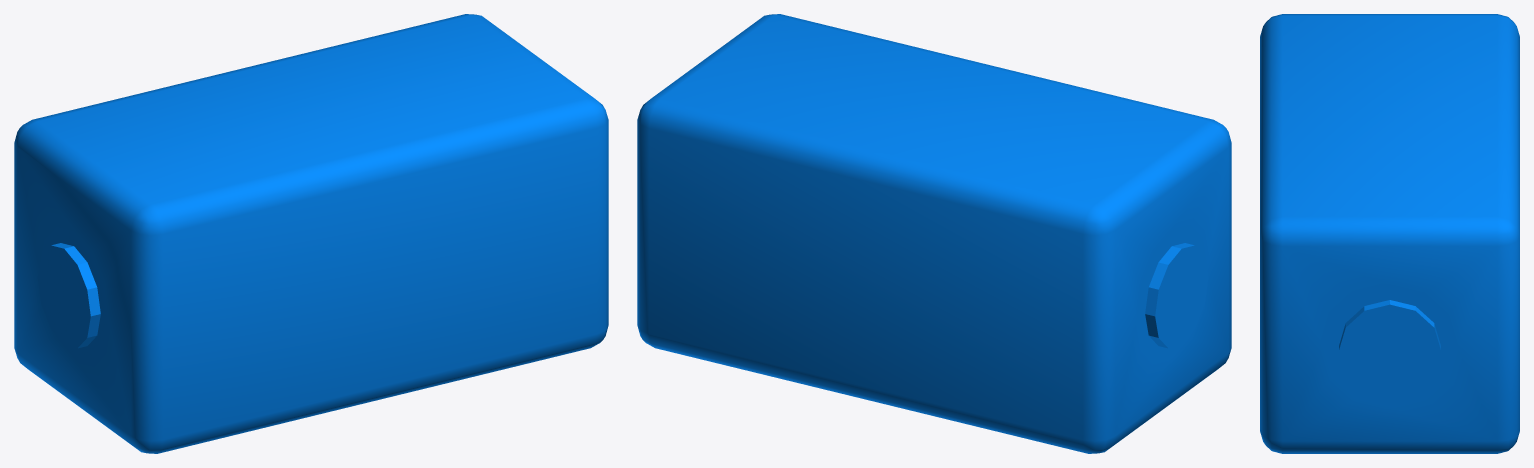
Rendered from CloudyGardenBlockStepB.fbx.
The picture shows the model from 3 angles, left to right: view 1: azimuth 30°, elevation 25°; view 2: azimuth 150°, elevation 25°; view 3: azimuth 270°, elevation 25°; orthographic projection. The views are drawn at different scales.
Parts seen in each view (by area): view 1: Cube.000, Cube.001; view 2: Cube.000, Cube.001; view 3: Cube.000, Cube.001.
Boxes of the visible parts, bbox=[...] form: Cube.000: bbox=[14, 14, 608, 453]; Cube.001: bbox=[37, 243, 100, 348]; Cube.000: bbox=[637, 14, 1231, 453]; Cube.001: bbox=[1145, 243, 1208, 348]; Cube.000: bbox=[1260, 14, 1519, 453]; Cube.001: bbox=[1339, 300, 1440, 397].
Bounding box in the file's own units: 104258 × 50000 × 50000.
